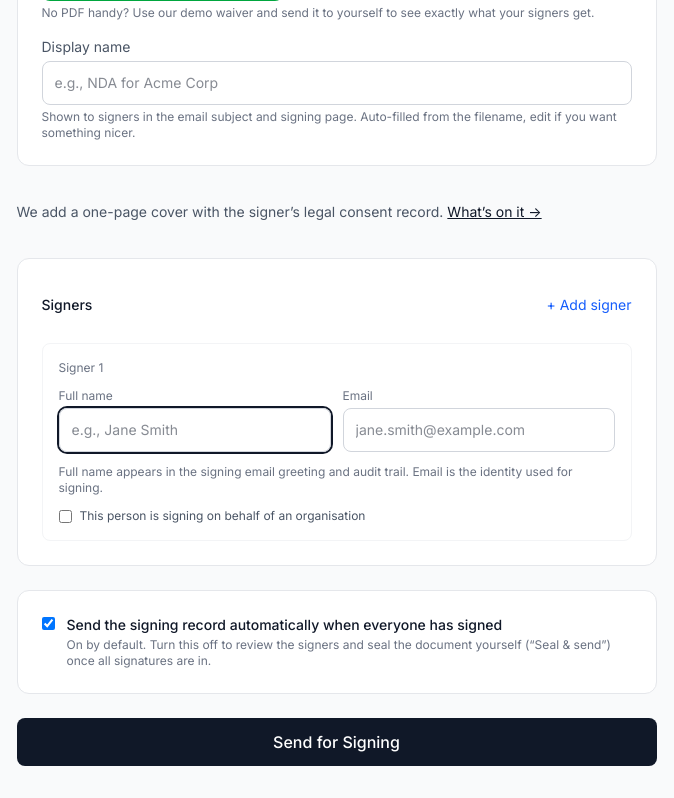
Test: F-029 — the restore view's own Send button must work (AC-241) › saves the edit and asks for a fresh link instead of crashing on the absent file
(page scrolled)
In the field with placeholder "jane.smith@example.com": (478,430) [342,408,614,452], type "corrected@example.com"
(page scrolled)
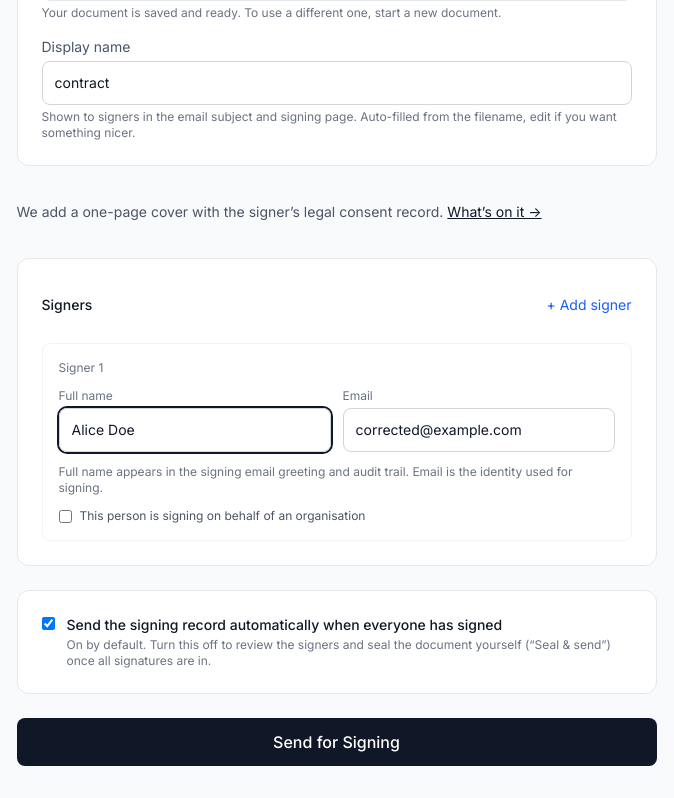
Click the button "Send for Signing": (336,742) [16,718,656,766]
(page scrolled)
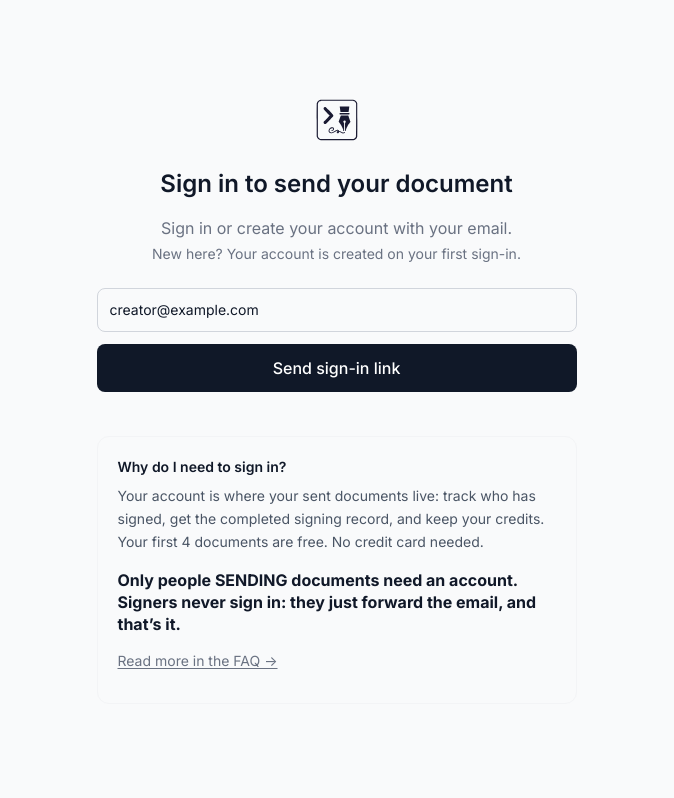
Check: the element with test id "signin-screen" is shown
